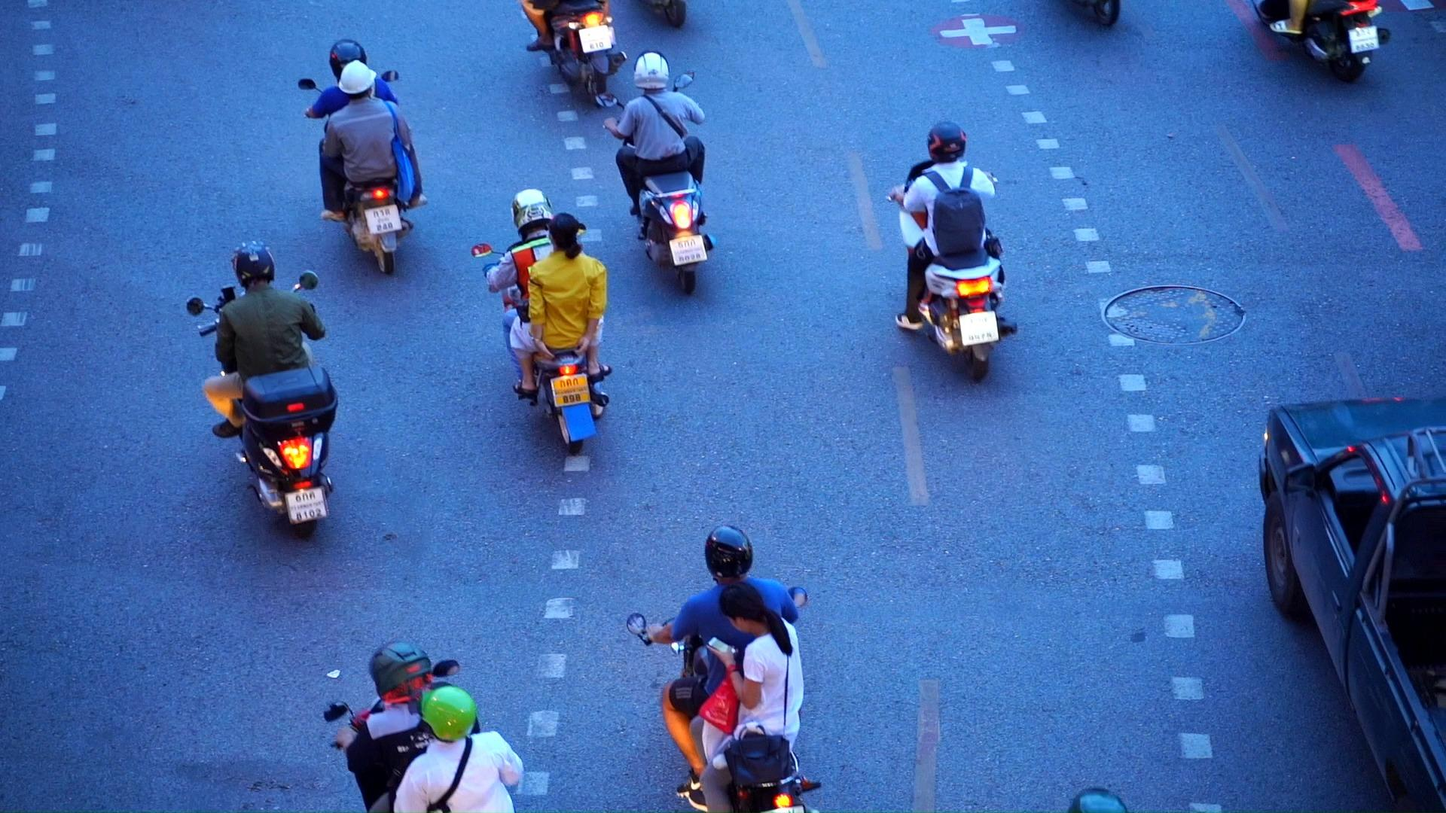driver: (626, 524, 822, 813), (187, 240, 337, 539), (472, 188, 613, 456), (323, 640, 525, 813), (885, 121, 1016, 382), (298, 39, 428, 273), (595, 49, 718, 294), (1250, 0, 1392, 83), (519, 0, 627, 109)
helmet: (409, 681, 477, 743), (369, 640, 432, 705), (705, 524, 753, 585), (231, 240, 275, 288), (511, 189, 554, 238), (927, 121, 966, 164), (330, 39, 367, 84), (339, 60, 376, 100), (634, 50, 669, 91)
no-helmet: (719, 582, 791, 638), (547, 212, 583, 260)
